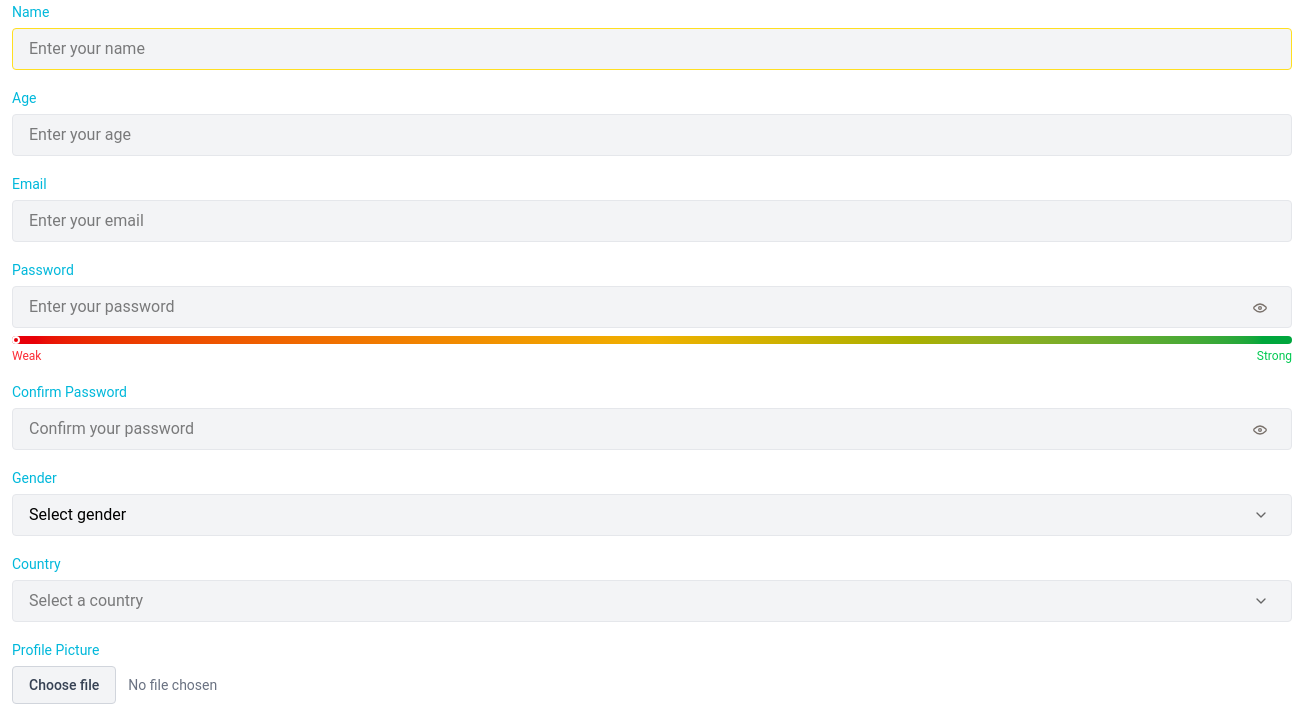
Scenario: UncontrolledForm shows validation error for invalid country
Type "InvalidCountry" into the field labelled "Country".
click(652, 601); type("InvalidCountry")  # box [12,580,1292,622]
(page scrolled)
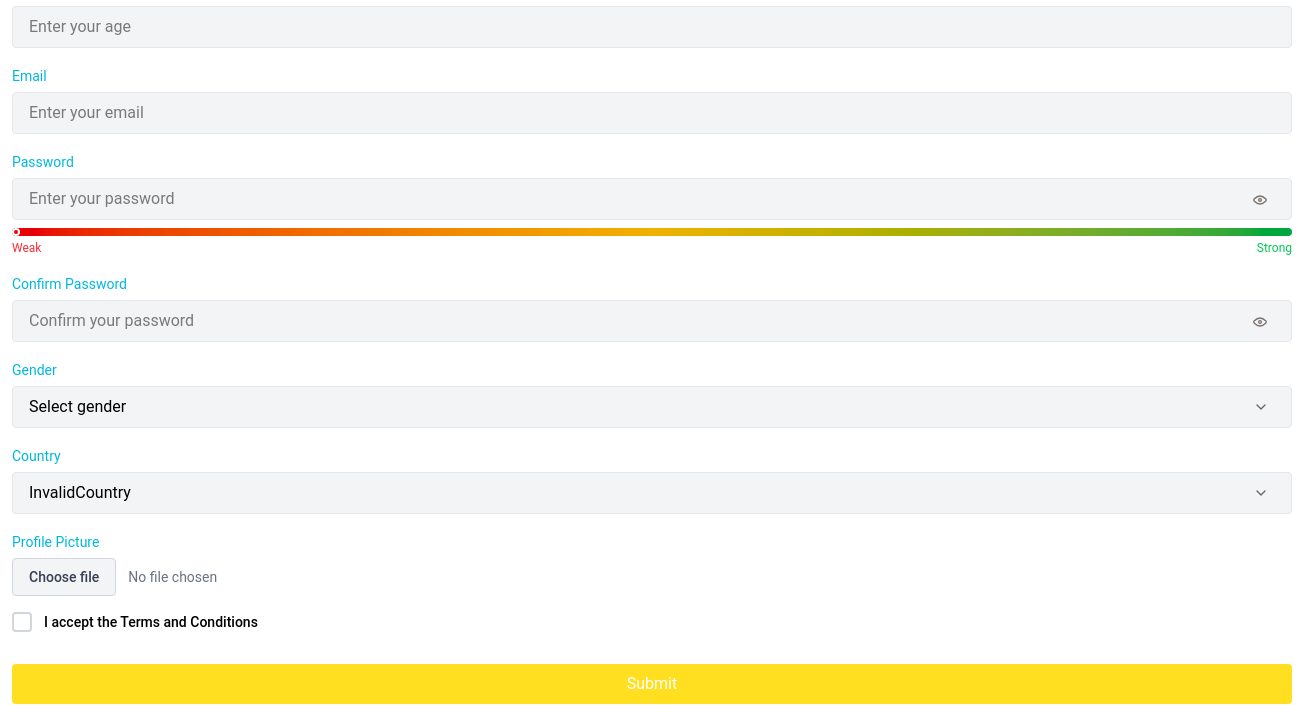
Click the button "Submit".
click(652, 684)  # box [12,664,1292,704]
(page scrolled)
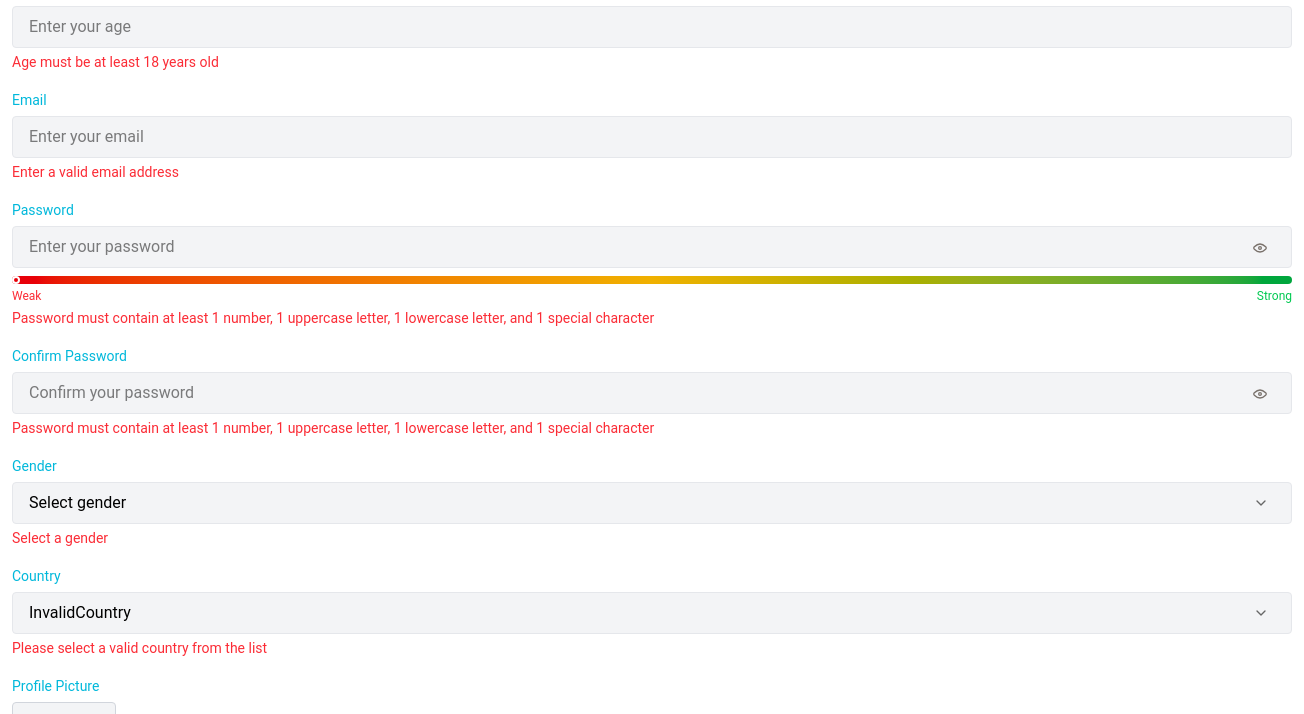
Check: the text "Please select a valid country from the list" is shown, box [12,640,267,656]
